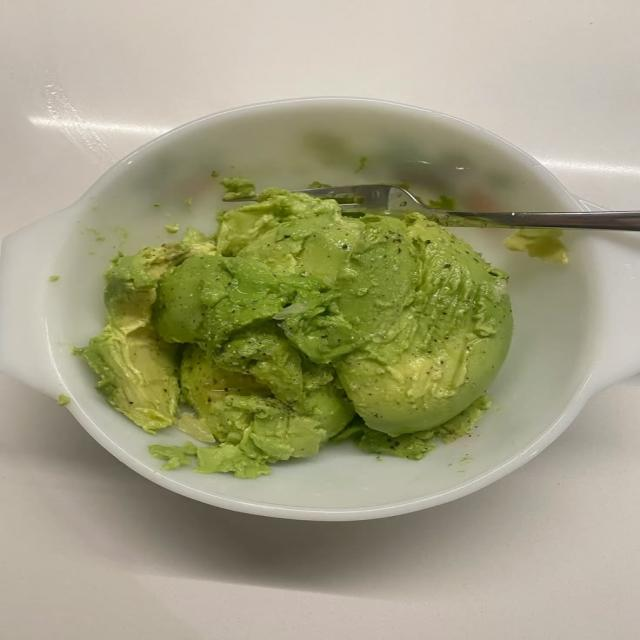avocado: (78, 189, 512, 477), (238, 209, 512, 434), (76, 230, 214, 432), (180, 346, 353, 477), (76, 246, 183, 432)
